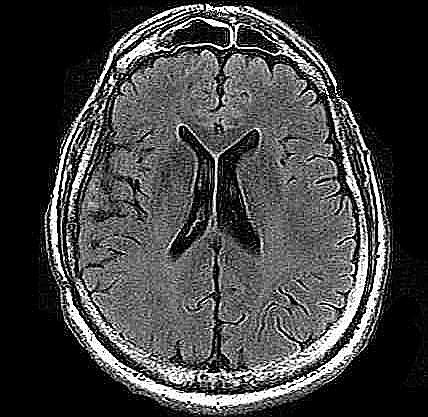Normal_Brain: (4, 3, 428, 417)
